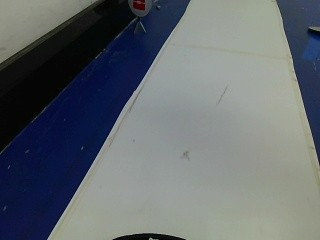company: (127, 0, 152, 16)
